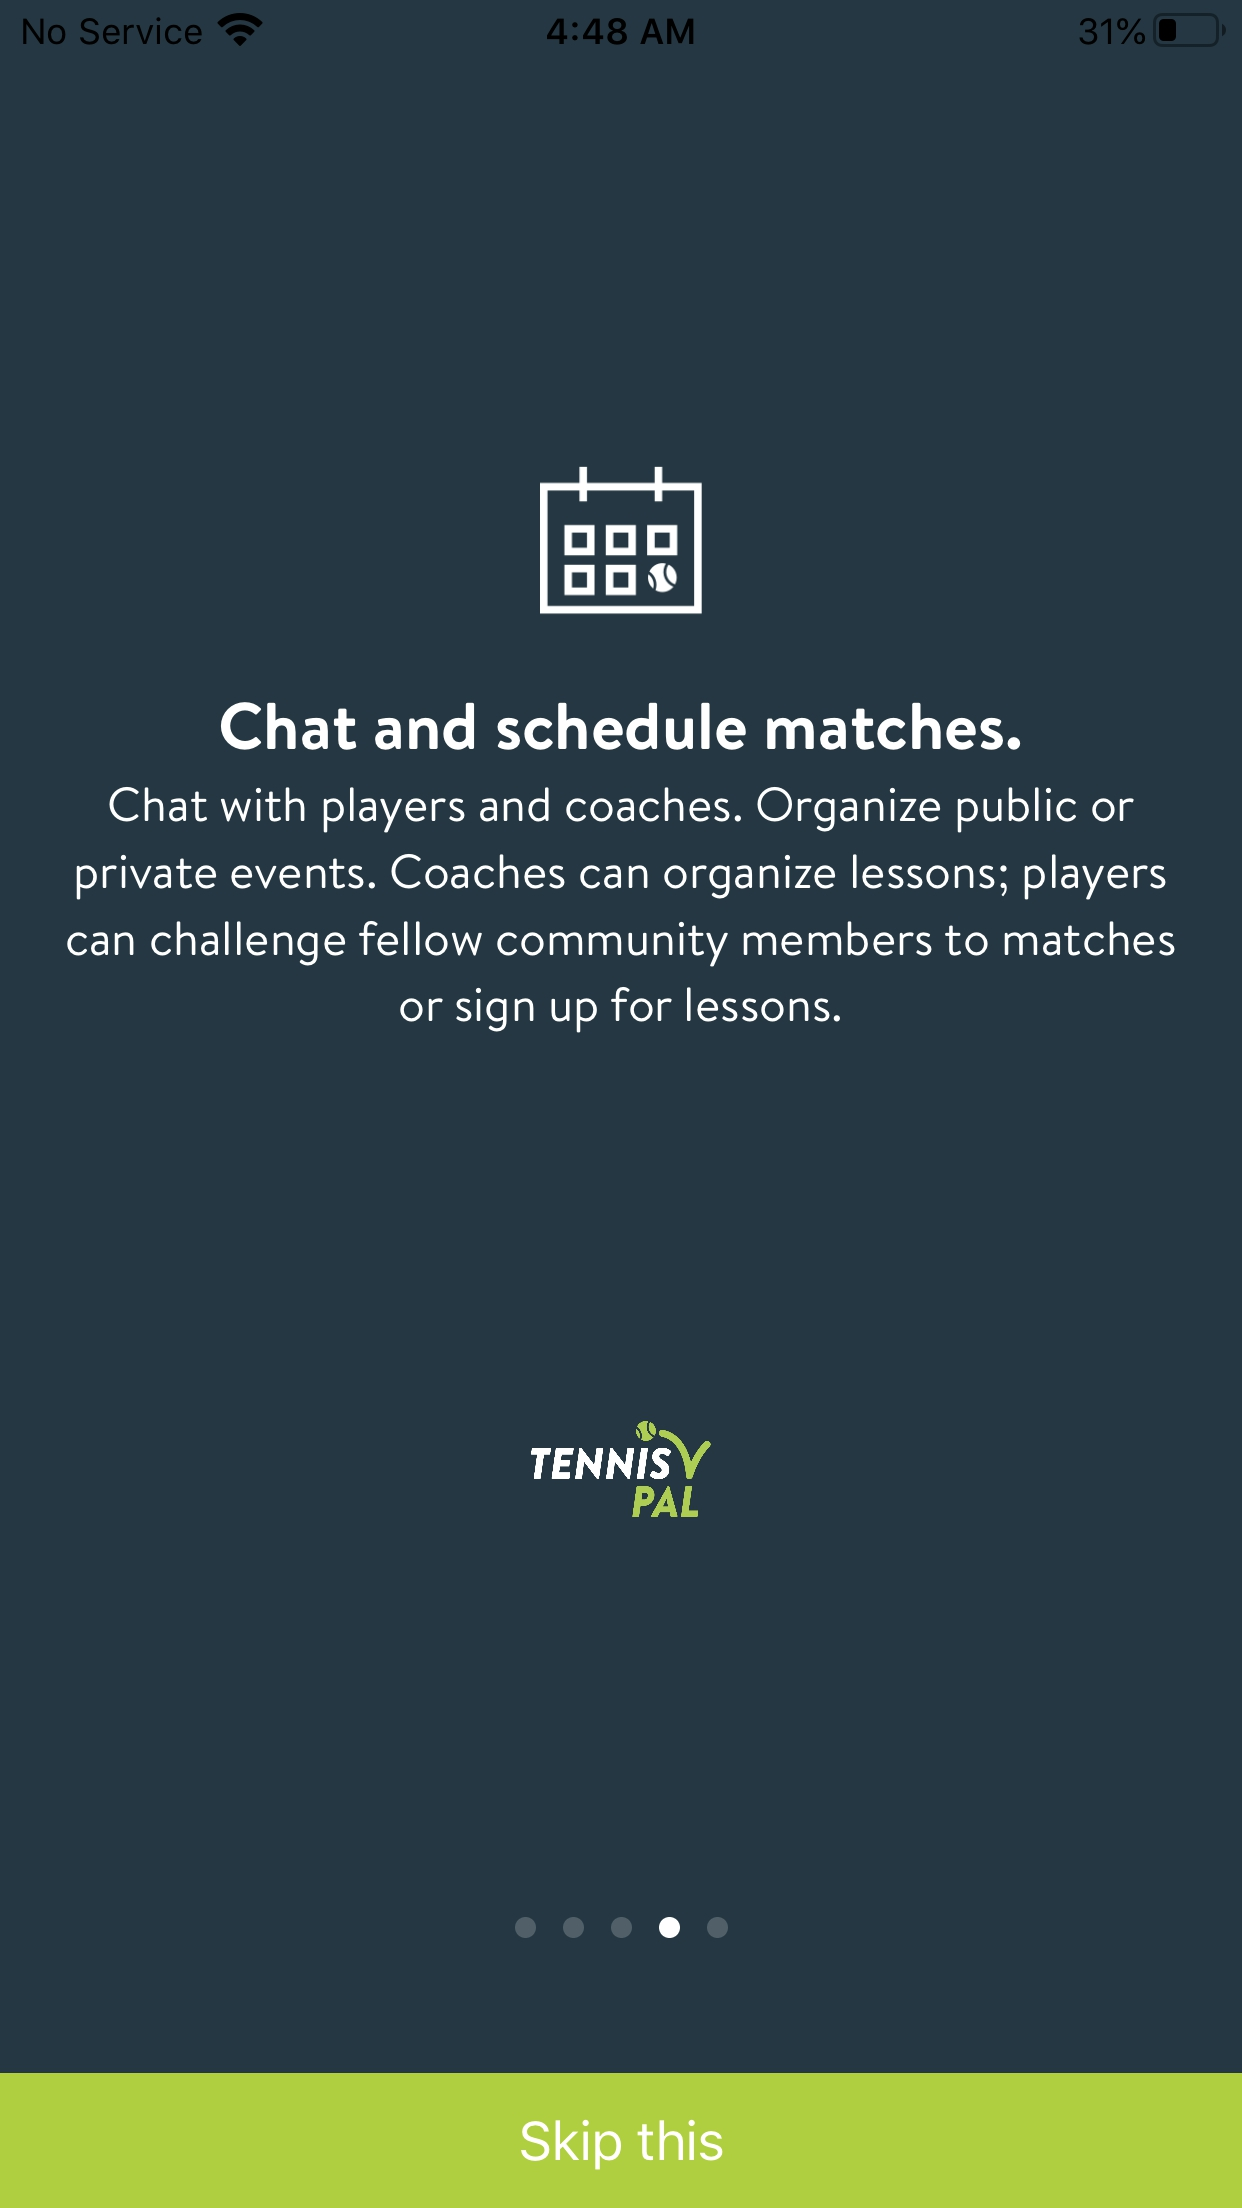Image: (540, 467, 702, 616), (531, 1421, 711, 1518)
PageIndicator: (516, 1917, 728, 1938)
Text: (67, 786, 1175, 1033), (221, 702, 1021, 751)
TextButton: (2, 2073, 1242, 2208)
UpperTaskBar: (2, 2, 1242, 47)
